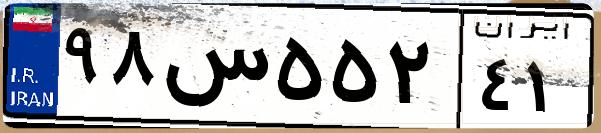1: (525, 38, 570, 115)
2: (385, 28, 445, 110)
4: (475, 38, 525, 113)
5: (270, 28, 330, 110), (330, 28, 385, 110)
8: (110, 28, 158, 98)
9: (57, 26, 110, 100)
س: (158, 20, 270, 120)
